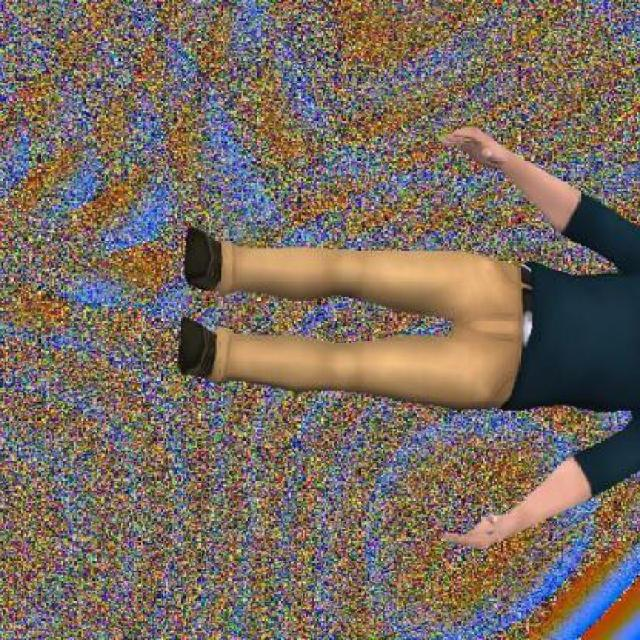Person: (178, 124, 639, 558)
